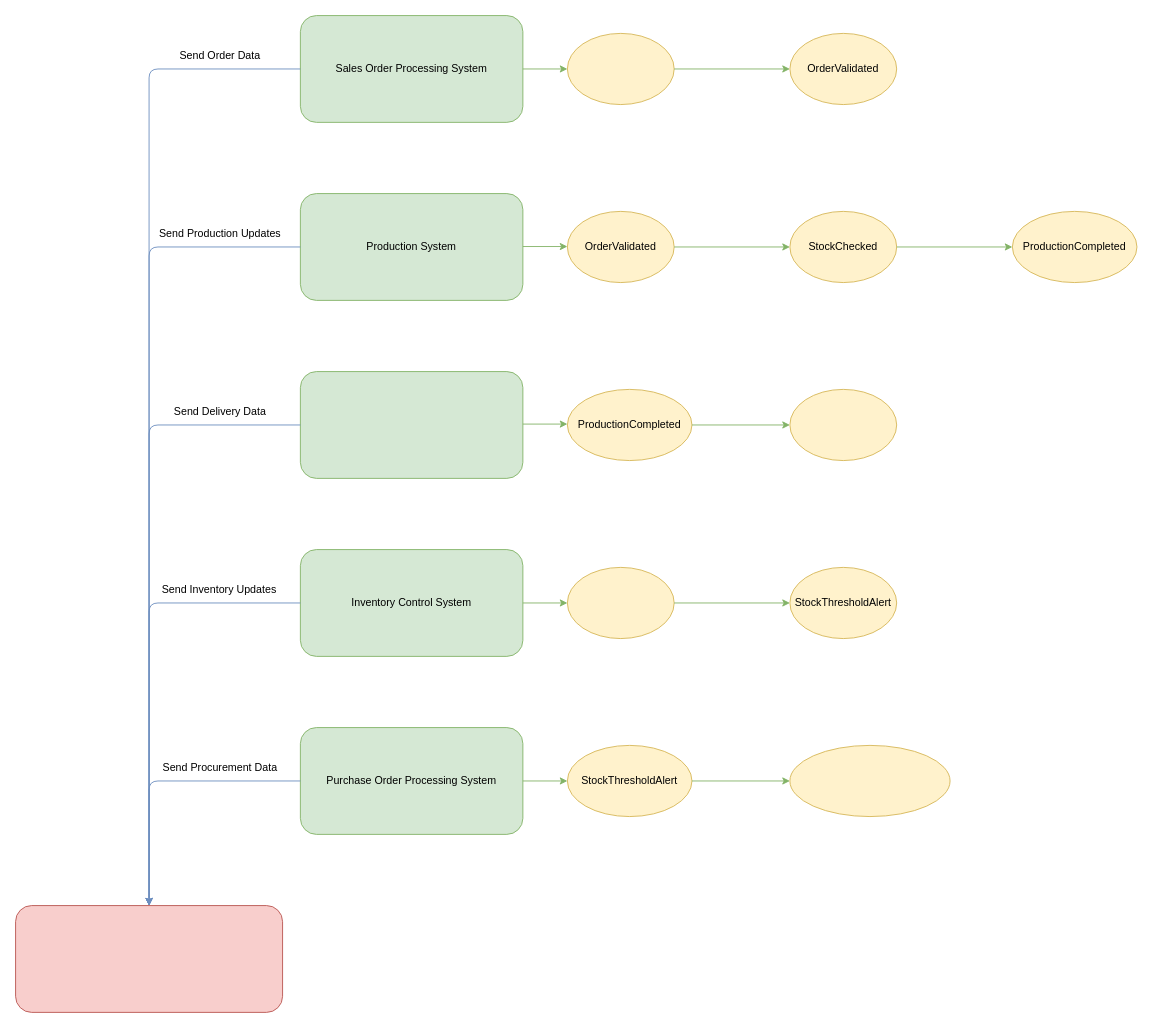
Image size: 1153x1028. Some labels were removed from this diagram. Each missing label, with the box of its shape:
Delivery System: (299, 371, 523, 478)
DeliveryCompleted: (789, 388, 897, 461)
OrderReceived: (566, 32, 674, 105)
PurchaseOrderCompleted: (789, 744, 950, 817)
Reporting Platform: (15, 905, 283, 1012)
StockUpdated: (566, 566, 674, 639)
